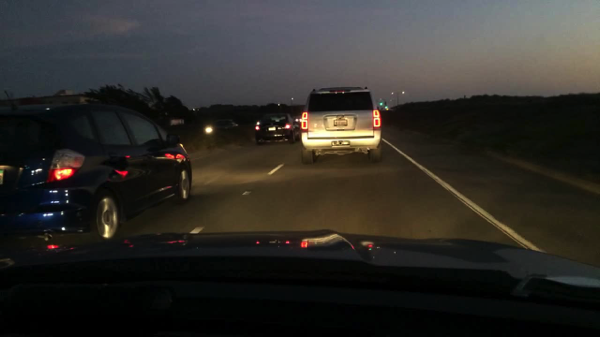car: (0, 95, 192, 244), (299, 85, 382, 163), (253, 111, 301, 146), (205, 117, 240, 136)
traffic light: (379, 99, 384, 107)
